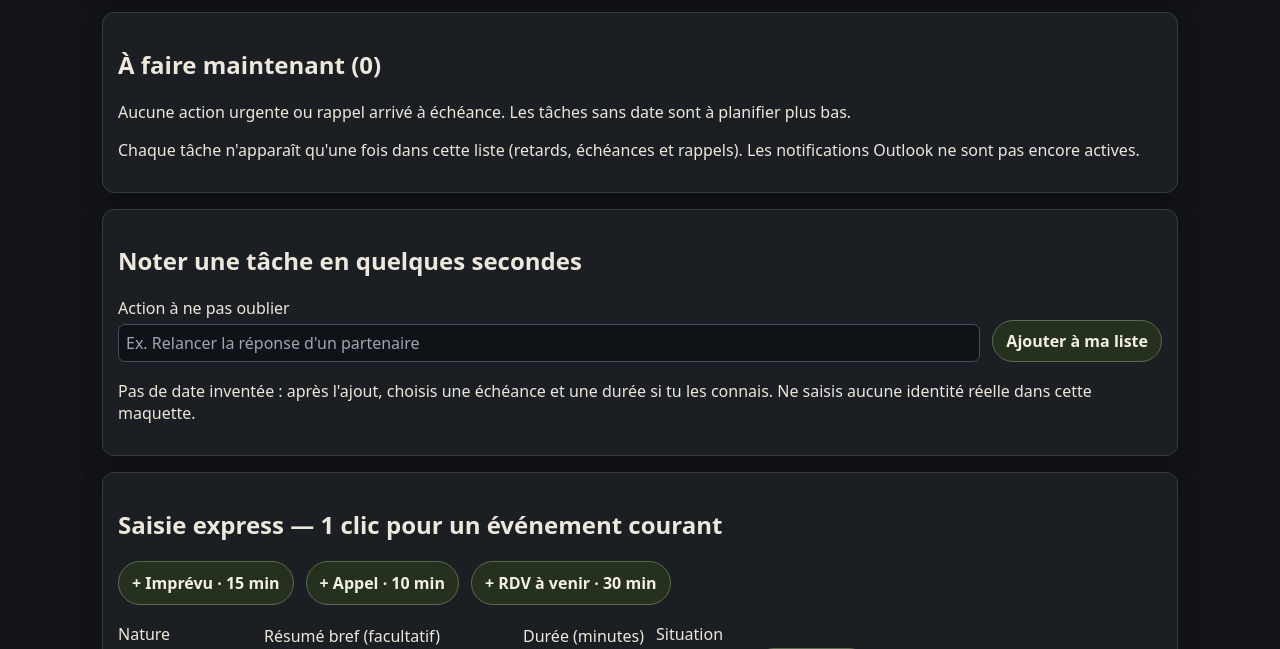
Test case: bureau de charge et saisie express (démonstration) › ajoute une tâche en une saisie sans date inventée, puis permet de l'échelonner
(page scrolled)
In the field with placeholder "Ex. Relancer la réponse d'un partenaire": coordinates (549, 343) [118,324,980,362], type "Relance fictive"
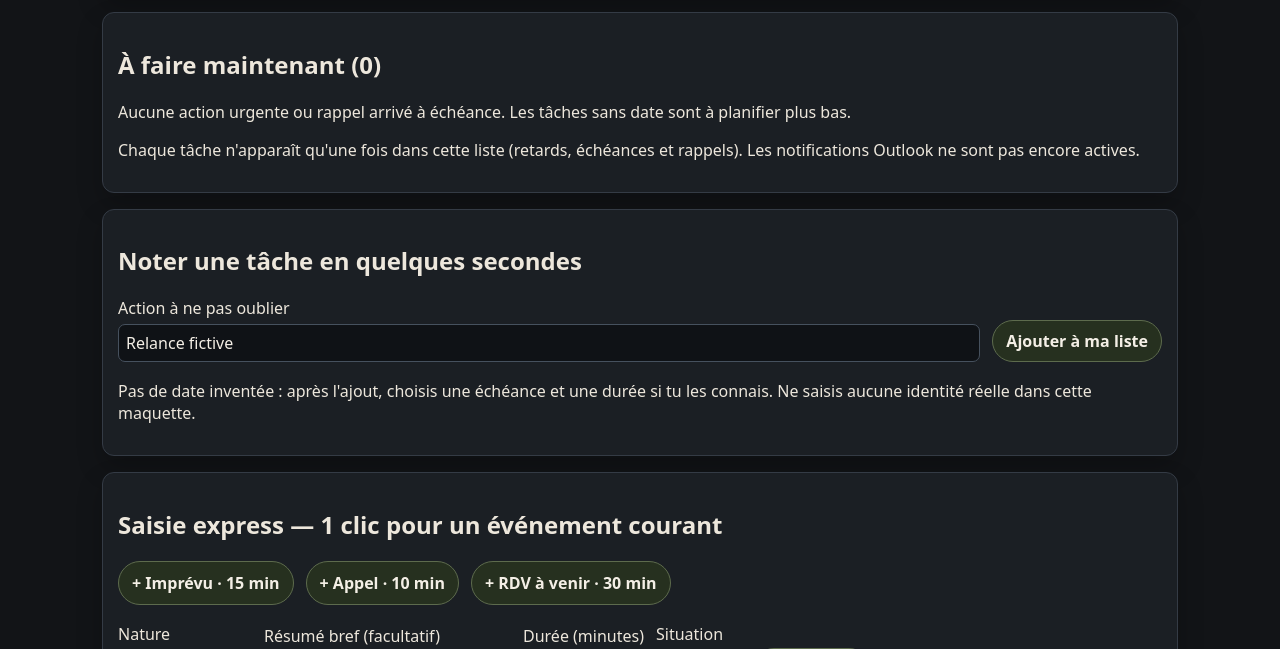
Click the button "Ajouter à ma liste": coordinates (1077, 341) [992,320,1162,362]
(page scrolled)
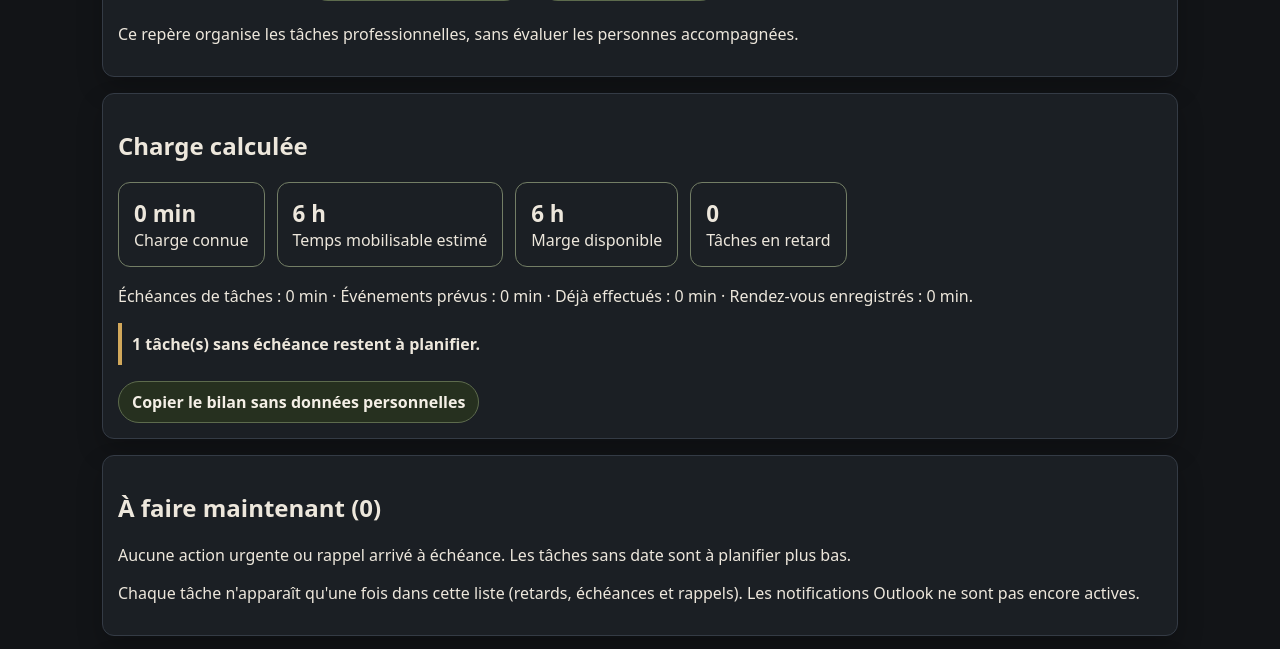
Now the text "1 tâche(s) sans échéance restent à planifier." is shown, box [118,323,1162,365]
